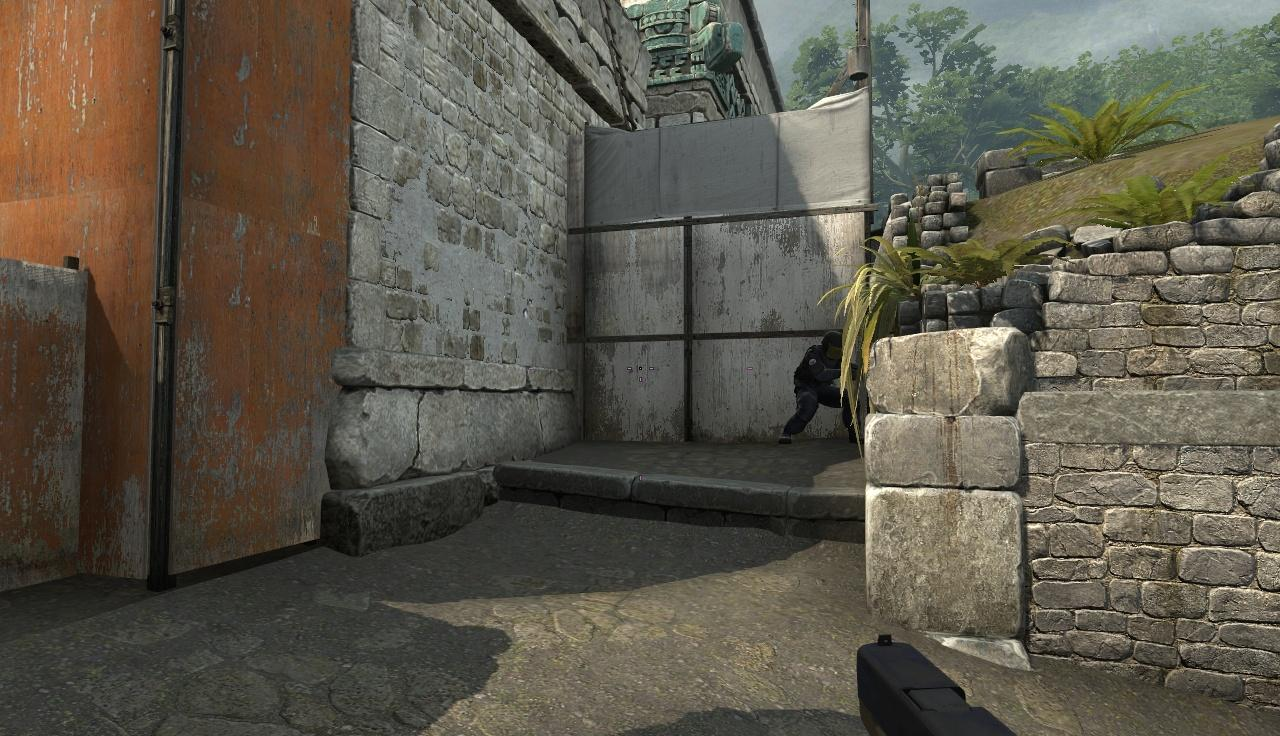ct: (794, 333, 845, 447)
cthead: (824, 331, 845, 355)
pistol: (846, 630, 1081, 736)
